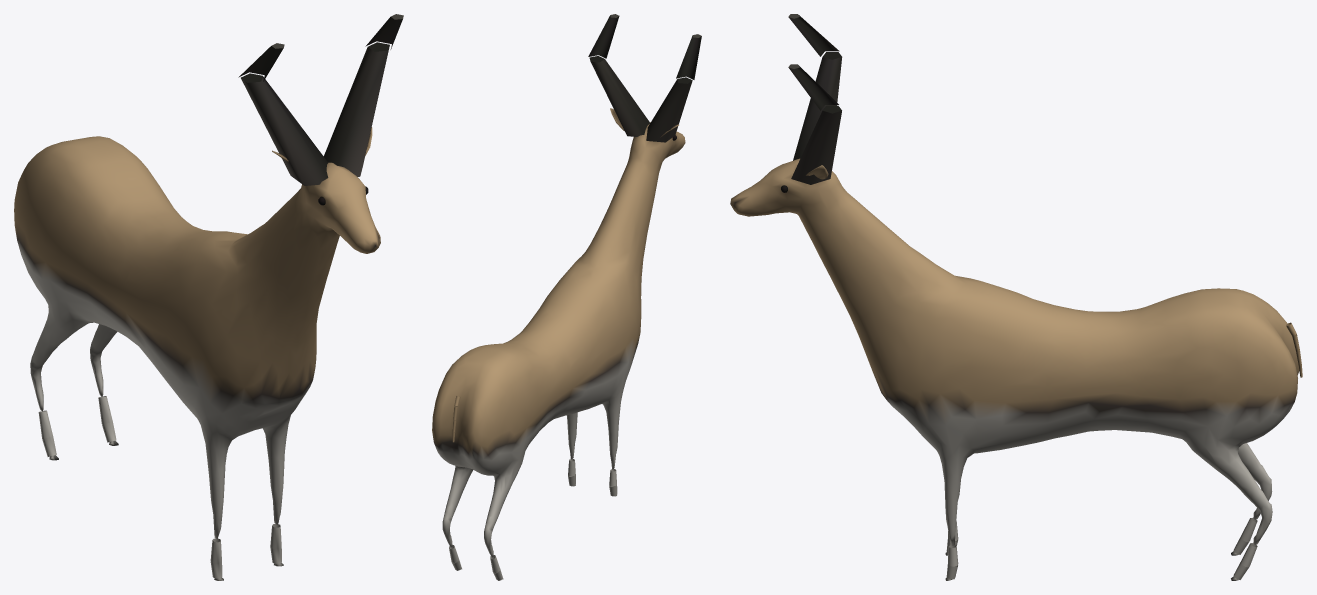
File: gazelle.glb
3 views of the same model, side by side, from view 1: azimuth 30°, elevation 25°; view 2: azimuth 150°, elevation 25°; view 3: azimuth 270°, elevation 25° (orthographic). The views are drawn at different scales.
Visible parts, largest first — view 1: lack; view 2: lack; view 3: lack.
Part boxes in pixels (<box>): lack: <box>14,14,403,580</box>; lack: <box>432,14,701,580</box>; lack: <box>730,14,1302,580</box>.
Size of the model in its own units: 0.361 by 1.4 by 1.38.
